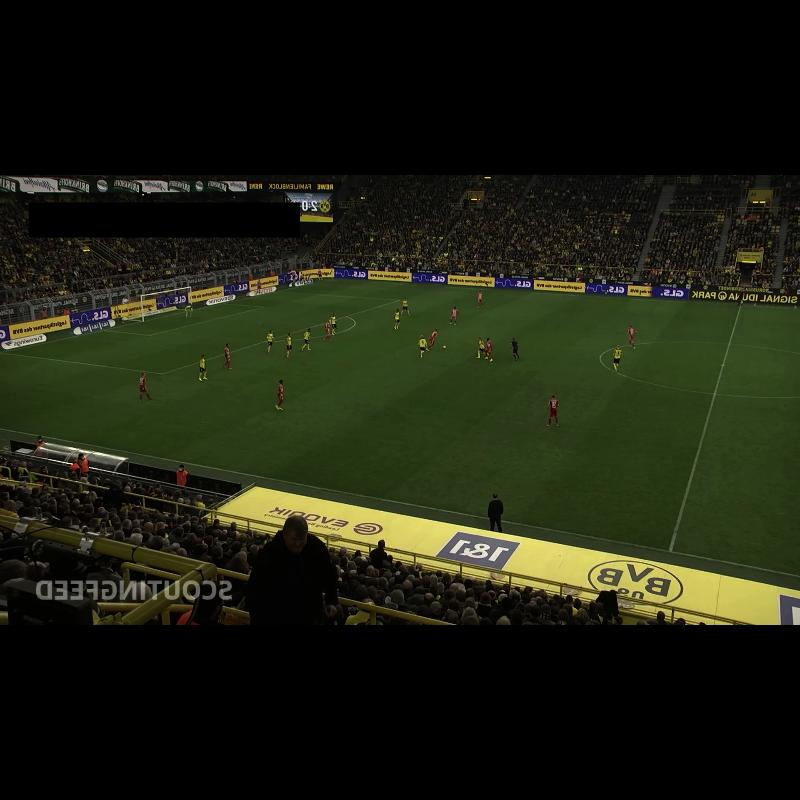cross_recipient_zone: (0, 291, 400, 374)
crossing_player_zone: (0, 351, 264, 451), (279, 279, 508, 304)
pitch: (0, 280, 800, 577)
